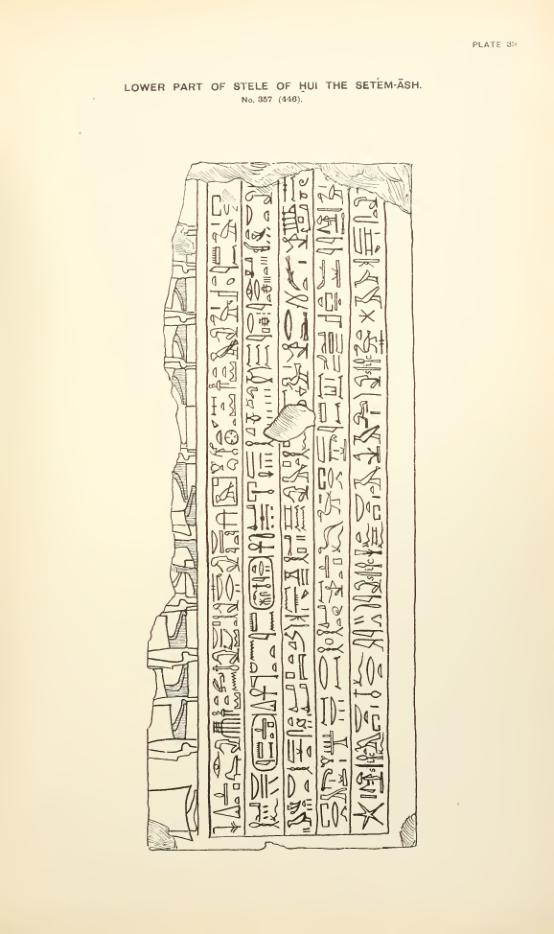circle: (248, 711, 282, 771), (246, 554, 277, 612)
